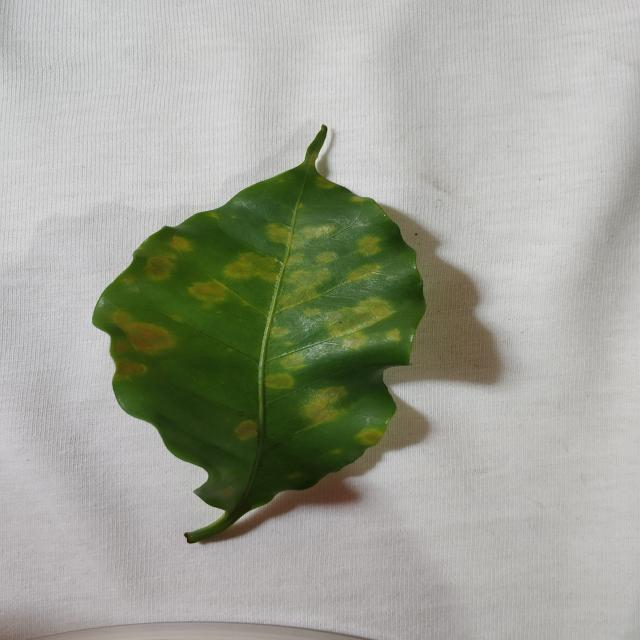Enfermedad-Roya: (91, 127, 431, 546)
